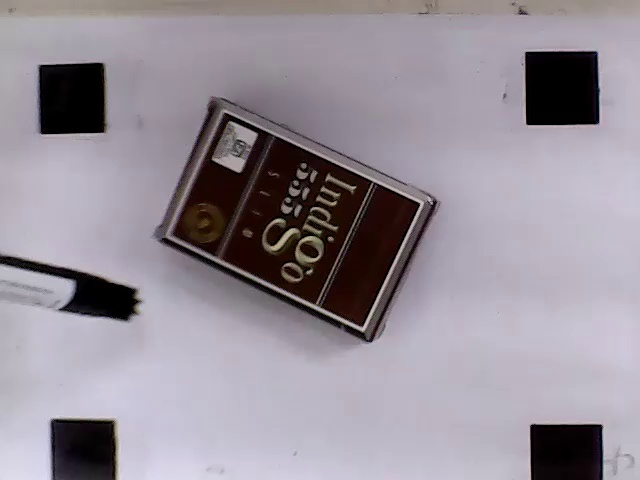BEX: (168, 111, 423, 331)
